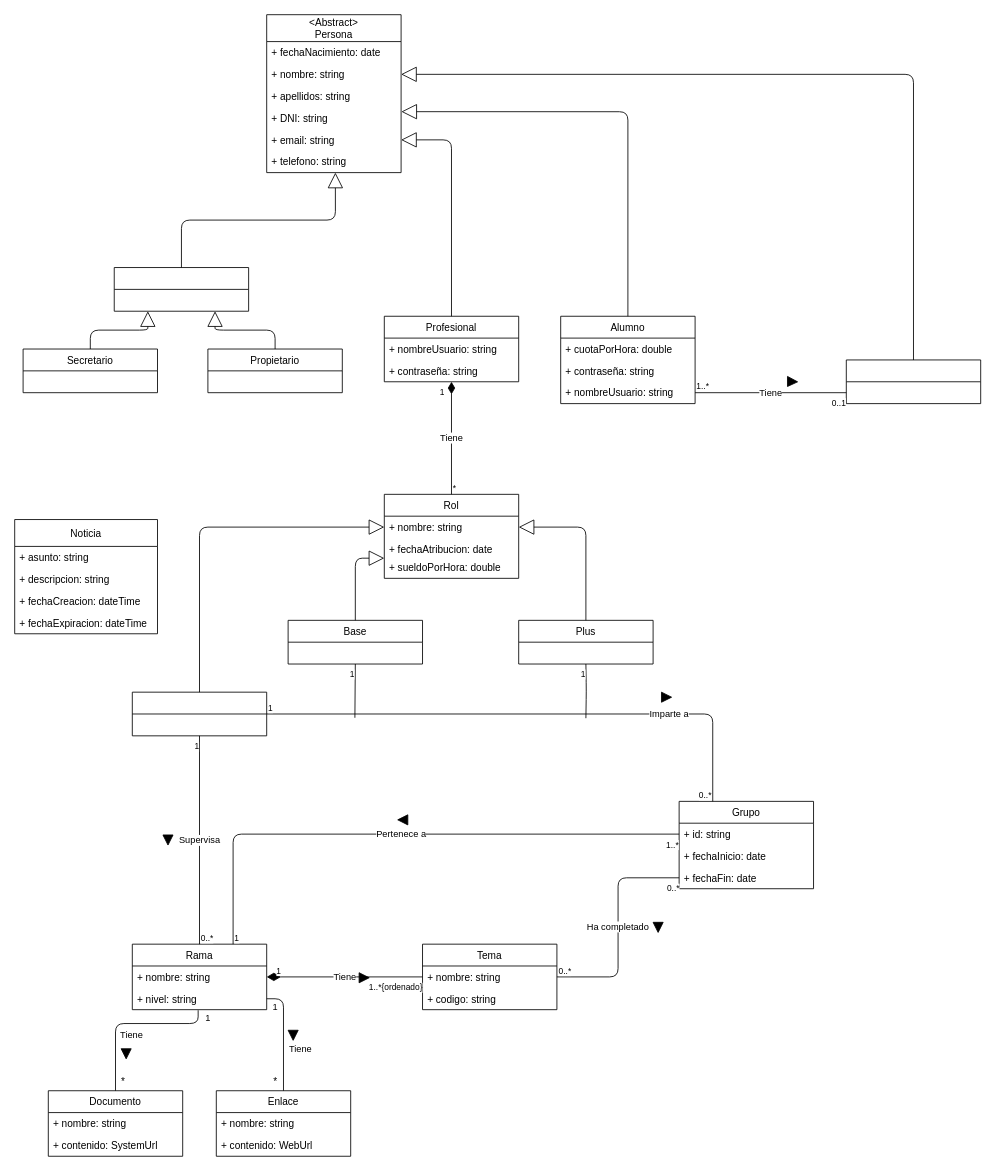
Some shapes in this 995 by 1173 pixel diagram are drawn without their labels. The centre of each missing label's shape, as x and y in pixels:
"Administrador" goes at [181,289].
"Coordinador" goes at [199,713].
"TutorLegal" goes at [913,381].
